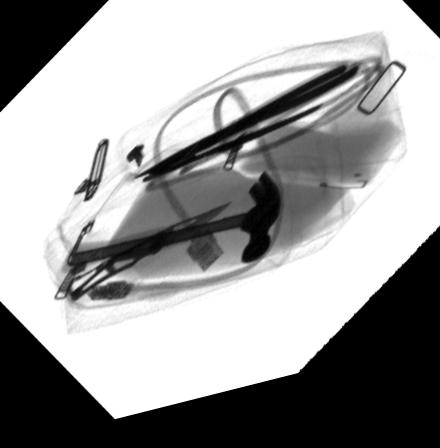Hammer: (60, 181, 282, 280)
Knife: (70, 211, 233, 305)
Pliers: (134, 76, 366, 186)
Scissors: (141, 118, 324, 191)
